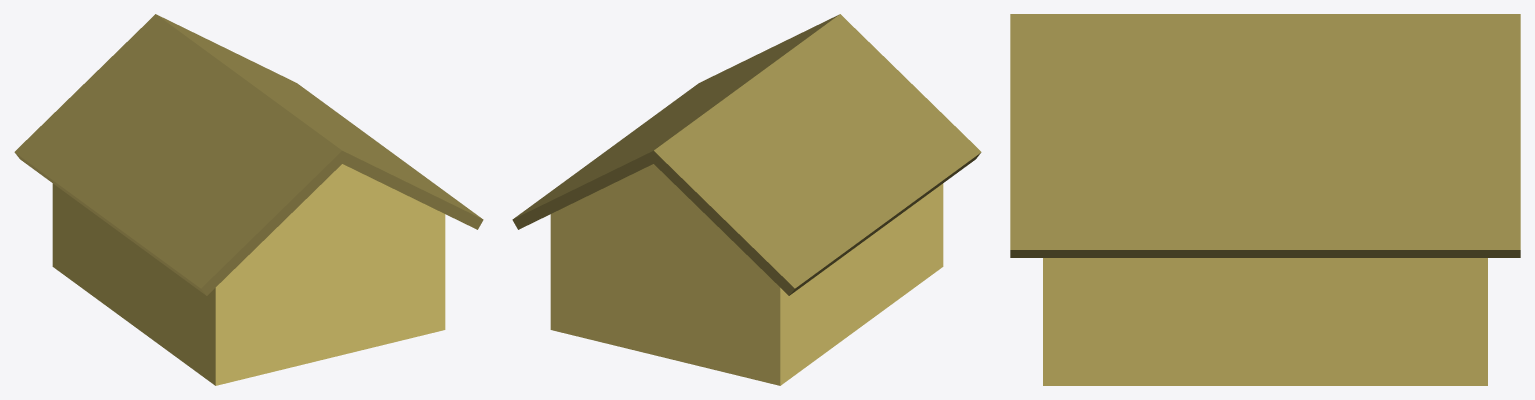
Rendered from result.glb.
The picture shows the model from 3 angles, left to right: view 1: azimuth 30°, elevation 25°; view 2: azimuth 150°, elevation 25°; view 3: azimuth 270°, elevation 25°; orthographic projection. The views are drawn at different scales.
Visible parts, largest first — view 1: 390e8699-a512-4d1a-a5e8-760c9b7a2946__undefined (×2), aafb0987-5ed6-4e37-a753-3626464d5c72__undefined; view 2: 390e8699-a512-4d1a-a5e8-760c9b7a2946__undefined (×2), aafb0987-5ed6-4e37-a753-3626464d5c72__undefined; view 3: 390e8699-a512-4d1a-a5e8-760c9b7a2946__undefined, aafb0987-5ed6-4e37-a753-3626464d5c72__undefined.
Boxes of the visible parts, x1,y1,x2,y2 form: 390e8699-a512-4d1a-a5e8-760c9b7a2946__undefined (×2): (14, 14, 483, 295); aafb0987-5ed6-4e37-a753-3626464d5c72__undefined: (52, 164, 445, 385); 390e8699-a512-4d1a-a5e8-760c9b7a2946__undefined (×2): (512, 14, 981, 295); aafb0987-5ed6-4e37-a753-3626464d5c72__undefined: (550, 164, 943, 385); 390e8699-a512-4d1a-a5e8-760c9b7a2946__undefined: (1010, 14, 1520, 257); aafb0987-5ed6-4e37-a753-3626464d5c72__undefined: (1043, 258, 1487, 385).
Size of the model in its own units: 685 by 500 by 783.
